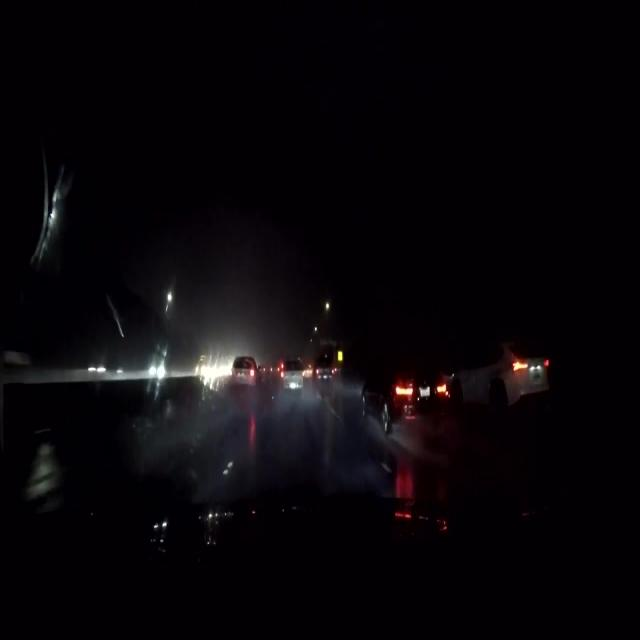Car: (446, 340, 547, 415), (358, 360, 448, 425), (230, 356, 261, 389), (277, 360, 304, 393)
